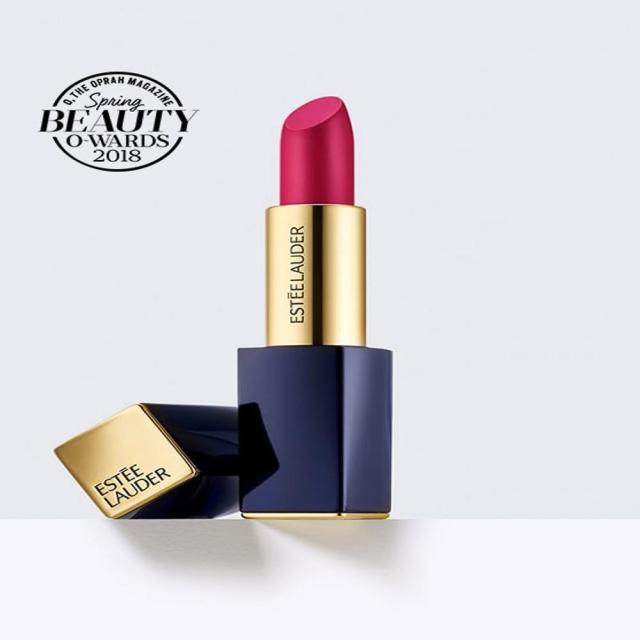lipstick: (244, 78, 397, 528)
